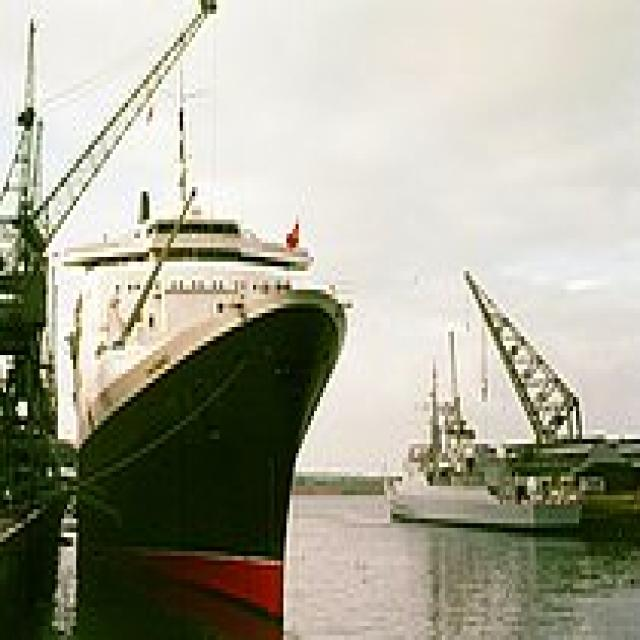Cruise: (52, 182, 344, 626)
